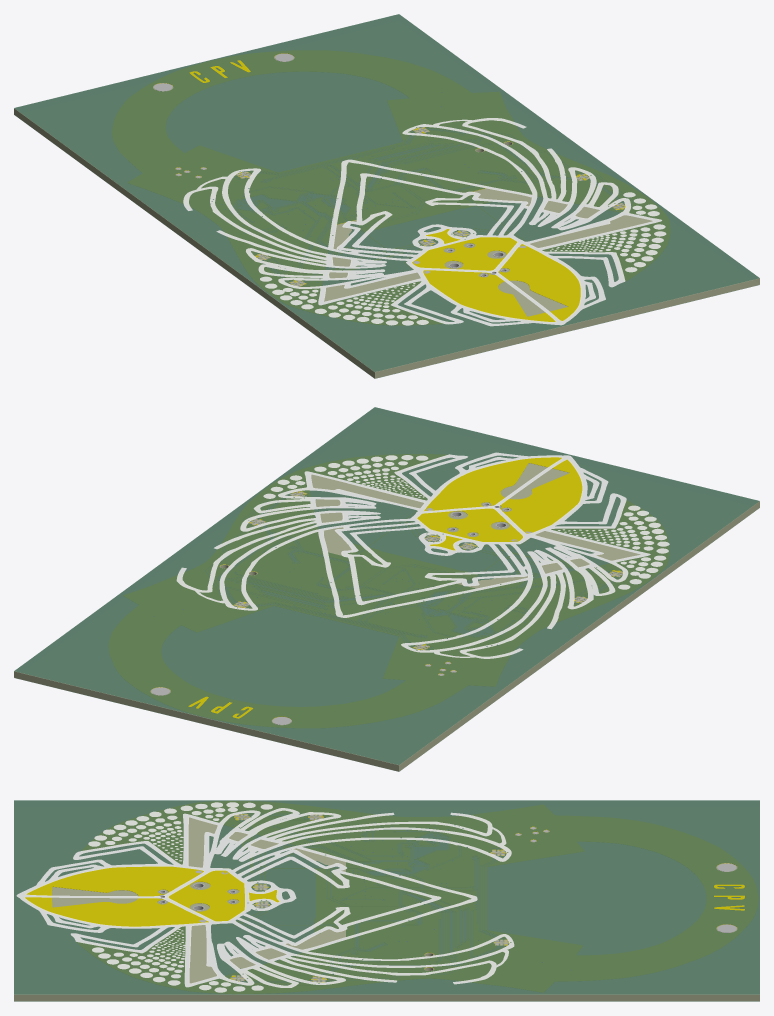
The model's file is dc25-cpv-badge.glb.
3 views of the same model, one above another, from view 1: azimuth 30°, elevation 25°; view 2: azimuth 150°, elevation 25°; view 3: azimuth 270°, elevation 25° (orthographic). The views are drawn at different scales.
Parts seen in each view (by area): view 1: =>[0:1:1:7], =>[0:1:1:9], =>[0:1:1:2], =>[0:1:1:5]; view 2: =>[0:1:1:7], =>[0:1:1:9], =>[0:1:1:2], =>[0:1:1:5]; view 3: =>[0:1:1:7], =>[0:1:1:9], =>[0:1:1:2], =>[0:1:1:5].
Boxes of the visible parts, left/top/right/bottom form: =>[0:1:1:7]: left=14, top=14, right=759, bottom=378; =>[0:1:1:9]: left=14, top=15, right=759, bottom=378; =>[0:1:1:2]: left=112, top=51, right=669, bottom=324; =>[0:1:1:5]: left=183, top=118, right=666, bottom=326; =>[0:1:1:7]: left=14, top=407, right=759, bottom=771; =>[0:1:1:9]: left=14, top=408, right=759, bottom=771; =>[0:1:1:2]: left=109, top=454, right=668, bottom=727; =>[0:1:1:5]: left=176, top=452, right=669, bottom=658; =>[0:1:1:7]: left=14, top=800, right=759, bottom=1001; =>[0:1:1:9]: left=14, top=801, right=759, bottom=1001; =>[0:1:1:2]: left=25, top=801, right=757, bottom=993; =>[0:1:1:5]: left=16, top=802, right=514, bottom=992.
Bounding box in the file's own units: 0.0953 × 0.00166 × 0.1547.
4 materials, 4 textured.
